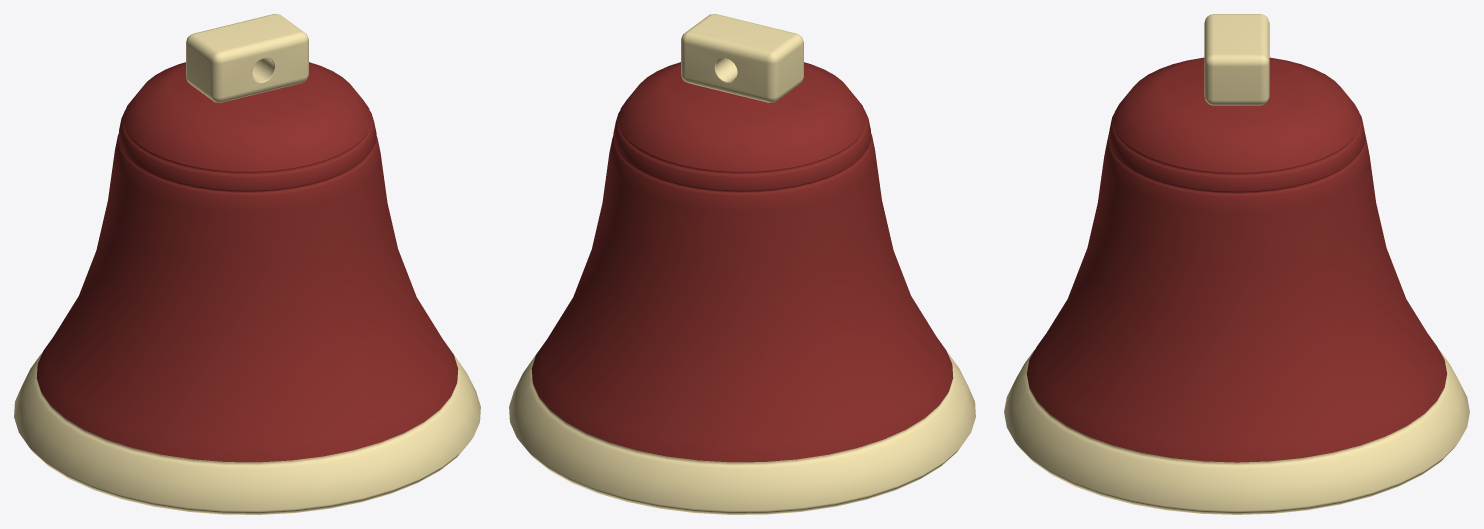
The picture shows the model from 3 angles, left to right: view 1: azimuth 30°, elevation 25°; view 2: azimuth 150°, elevation 25°; view 3: azimuth 270°, elevation 25°; orthographic projection.
Parts seen in each view (by area): view 1: BellShell, Headstock; view 2: BellShell, Headstock; view 3: BellShell, Headstock.
Boxes of the visible parts, x1,y1,x2,y2 form: BellShell: [14, 62, 480, 514]; Headstock: [186, 14, 308, 102]; BellShell: [509, 62, 975, 514]; Headstock: [681, 14, 803, 102]; BellShell: [1004, 57, 1469, 514]; Headstock: [1204, 14, 1269, 105].
Bounding box in the file's own units: 0.05 × 0.0497 × 0.05.
